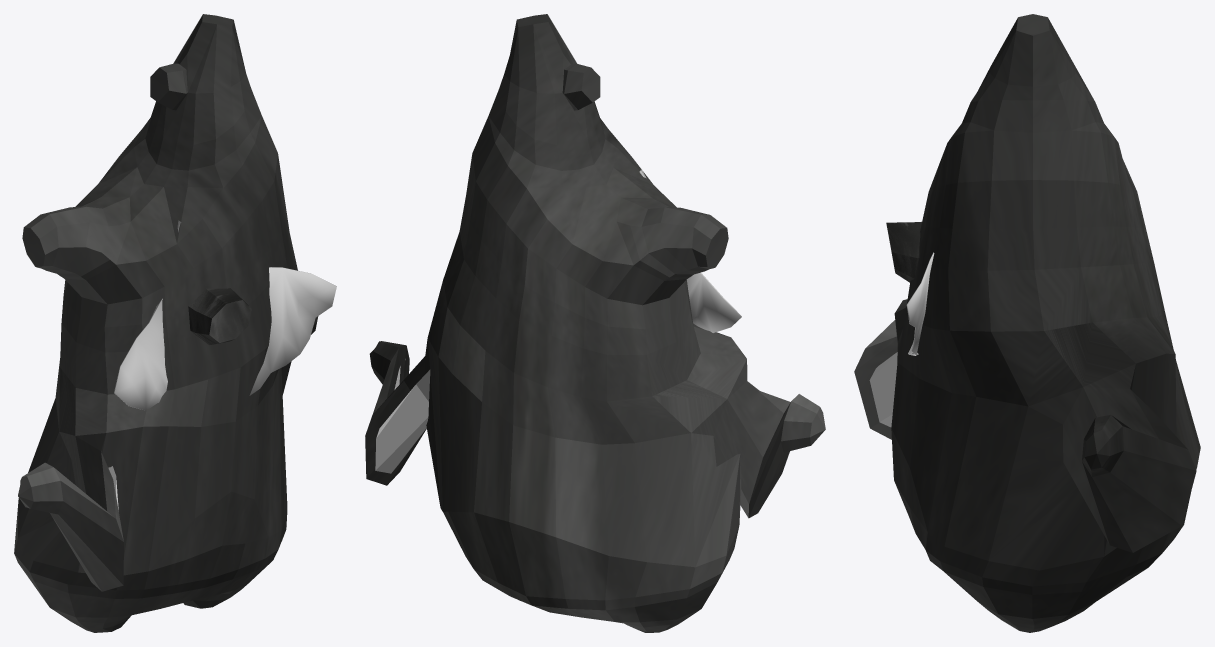
The model's file is frame_0014.obj.
3 views of the same model, side by side, from view 1: azimuth 30°, elevation 25°; view 2: azimuth 150°, elevation 25°; view 3: azimuth 270°, elevation 25° (orthographic). The views are drawn at different scales.
Parts seen in each view (by area): view 1: korok, leaf, nose; view 2: korok, leaf; view 3: korok, nose, leaf.
Part boxes in pixels (left/top/right/bottom): korok: left=14, top=14, right=318, bottom=632; leaf: left=114, top=220, right=336, bottom=410; nose: left=188, top=288, right=251, bottom=344; korok: left=365, top=14, right=825, bottom=632; leaf: left=639, top=170, right=741, bottom=332; korok: left=854, top=14, right=1200, bottom=632; nose: left=886, top=221, right=921, bottom=282; leaf: left=906, top=252, right=934, bottom=355.
Bounding box in the file's own units: 1.73 × 2.55 × 1.3.
